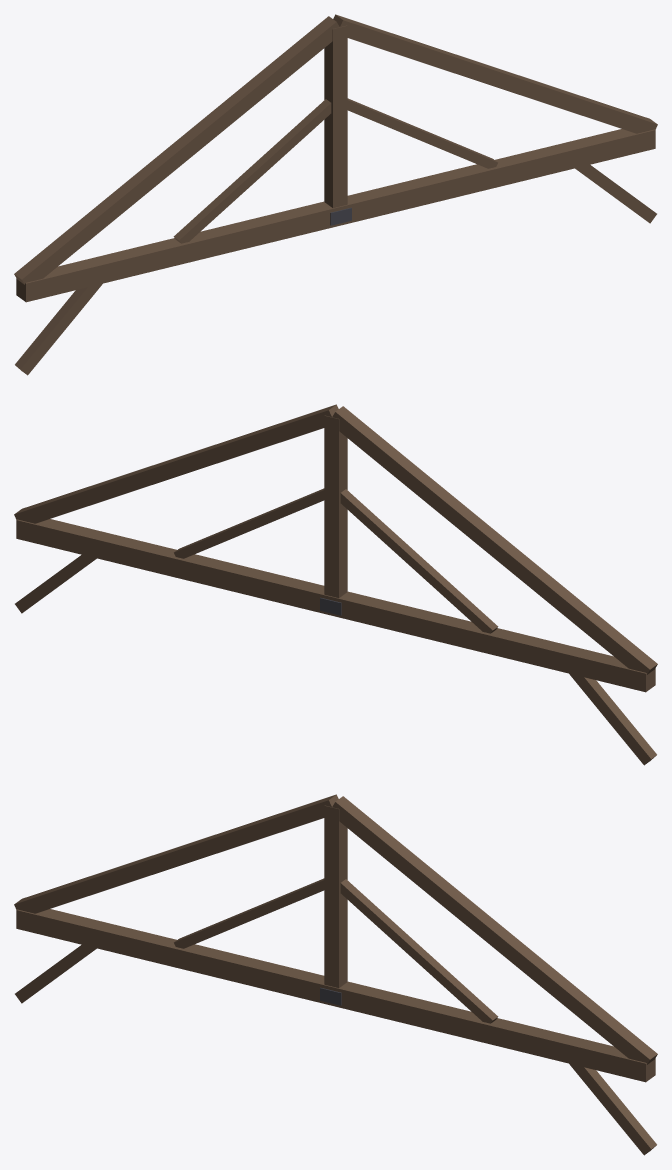
The model's file is truss_12.glb.
The picture shows the model from 3 angles, top to bottom: view 1: azimuth 30°, elevation 25°; view 2: azimuth 150°, elevation 25°; view 3: azimuth 330°, elevation 25°; orthographic projection.
Parts seen in each view (by area): view 1: truss_12; view 2: truss_12; view 3: truss_12.
Part boxes in pixels (left/top/right/bottom): truss_12: left=14, top=14, right=657, bottom=375; truss_12: left=14, top=404, right=657, bottom=765; truss_12: left=14, top=794, right=657, bottom=1155.
Size of the model in its own units: 12.14 by 5.09 by 0.36.
